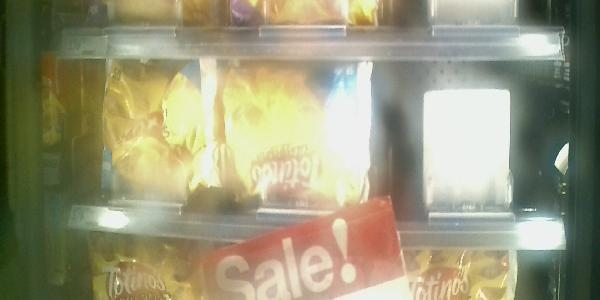icecream: (221, 54, 374, 215), (99, 56, 219, 210)
